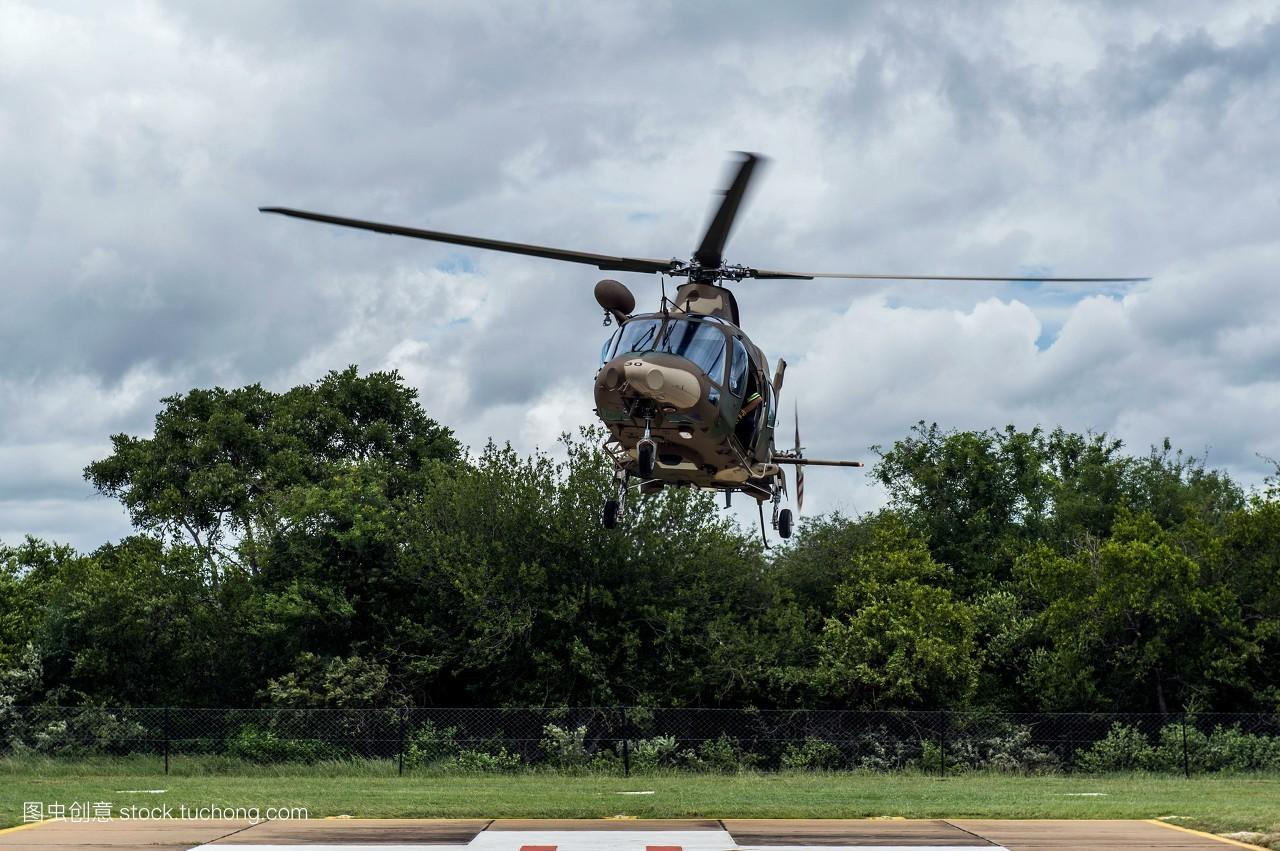airplane: (251, 150, 1152, 545)
